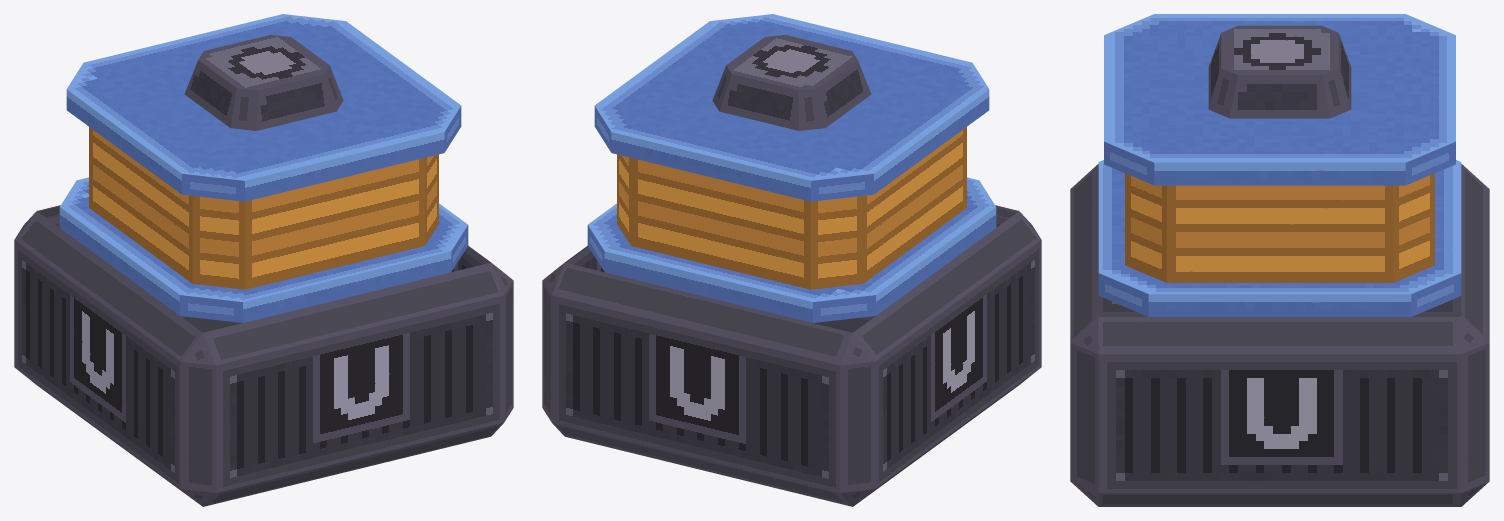
The model's file is packer.glb.
3 renders of one model, left to right at view 1: azimuth 30°, elevation 25°; view 2: azimuth 150°, elevation 25°; view 3: azimuth 270°, elevation 25°, orthographic. The views are drawn at different scales.
Visible parts, largest first — view 1: packer_body; view 2: packer_body; view 3: packer_body.
Boxes of the visible parts, x1=… form: packer_body: x1=14, y1=14, x2=513, y2=506; packer_body: x1=542, y1=14, x2=1041, y2=506; packer_body: x1=1070, y1=14, x2=1489, y2=506.
Bounding box in the file's own units: 1 × 1 × 1.
Materials: 1 (1 with a texture image).
